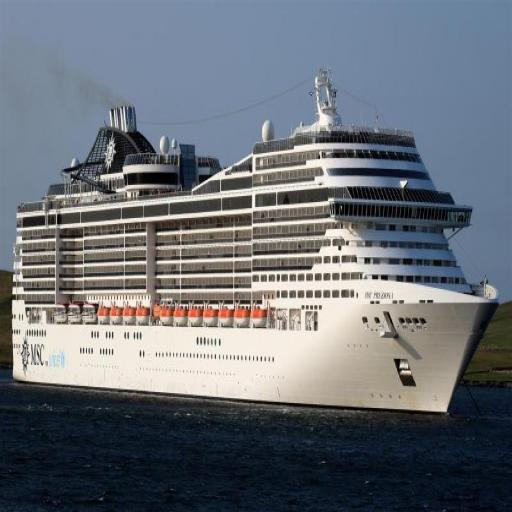cruises: (11, 71, 502, 431)
